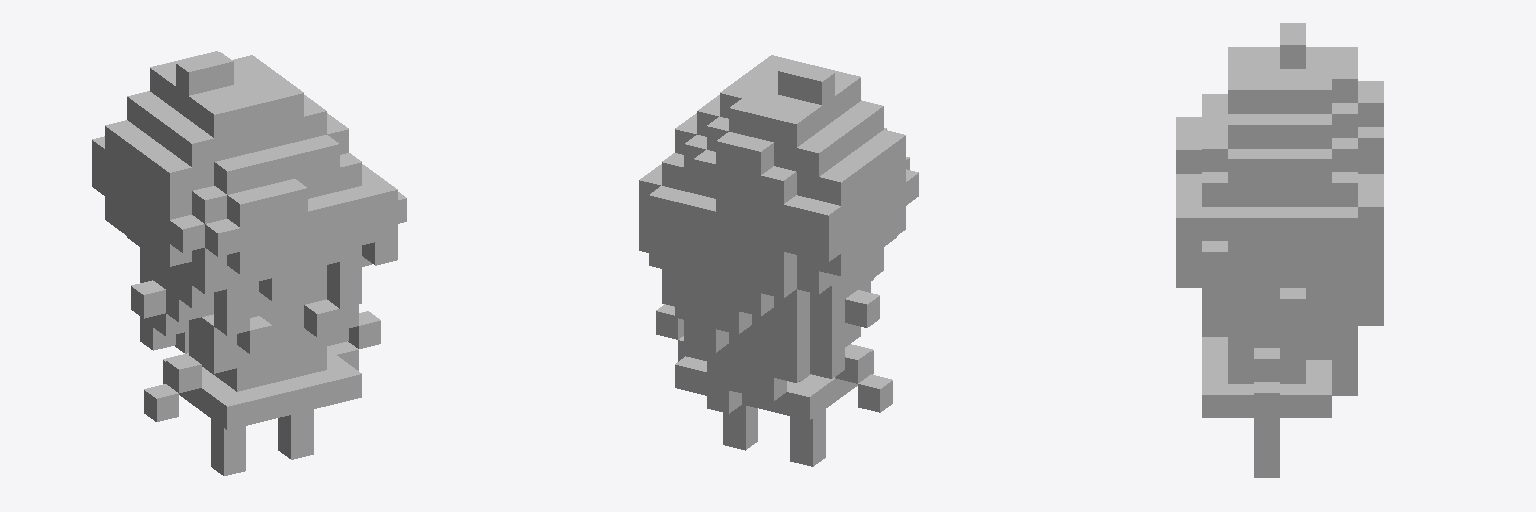
The model's file is chr_knight 1.obj.
The picture shows the model from 3 angles: view 1: azimuth 30°, elevation 25°; view 2: azimuth 150°, elevation 25°; view 3: azimuth 270°, elevation 25°; orthographic projection.
Parts seen in each view (by area): view 1: object 1; view 2: object 1; view 3: object 1.
Boxes of the visible parts, x1,y1,x2,y2 form: object 1: [92, 51, 406, 475]; object 1: [639, 55, 918, 466]; object 1: [1176, 23, 1383, 477].
Bounding box in the file's own units: 1 × 1.7 × 0.8.